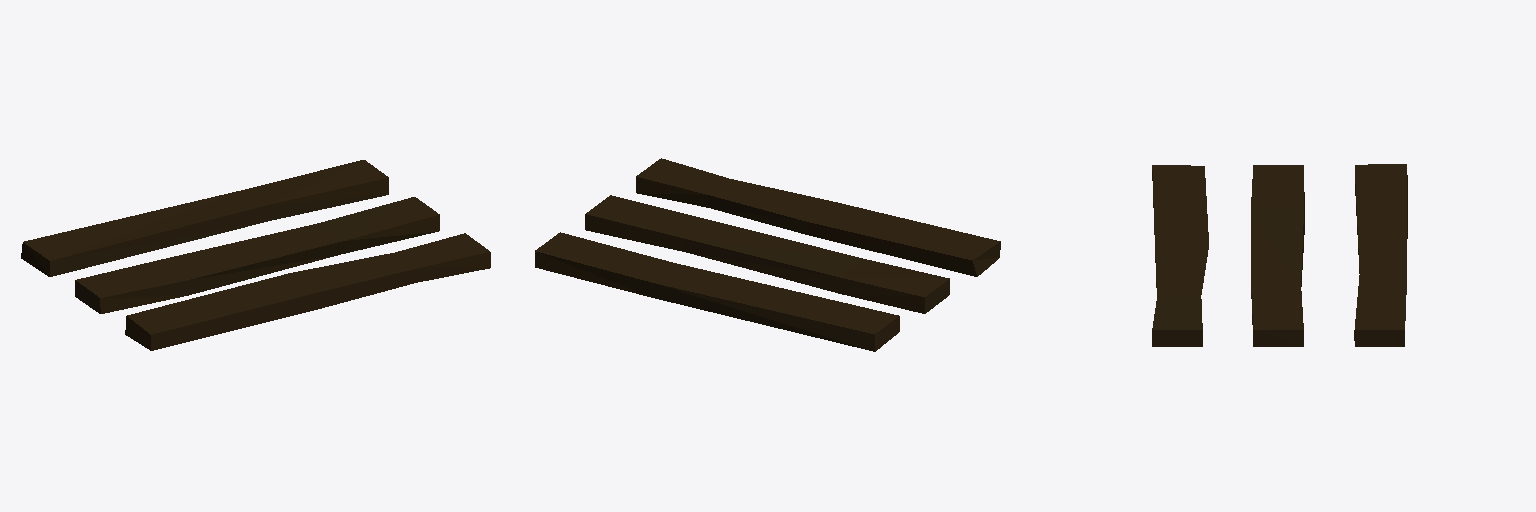
The model's file is Plank_1.obj.
The picture shows the model from 3 angles: view 1: azimuth 30°, elevation 25°; view 2: azimuth 150°, elevation 25°; view 3: azimuth 270°, elevation 25°; orthographic projection.
Parts seen in each view (by area): view 1: Cube_Cube.002; view 2: Cube_Cube.002; view 3: Cube_Cube.002.
Boxes of the visible parts, x1=… form: Cube_Cube.002: x1=21, y1=160, x2=490, y2=350; Cube_Cube.002: x1=535, y1=158, x2=1000, y2=351; Cube_Cube.002: x1=1152, y1=164, x2=1407, y2=346.
Bounding box in the file's own units: 1.58 × 0.083 × 1.02.